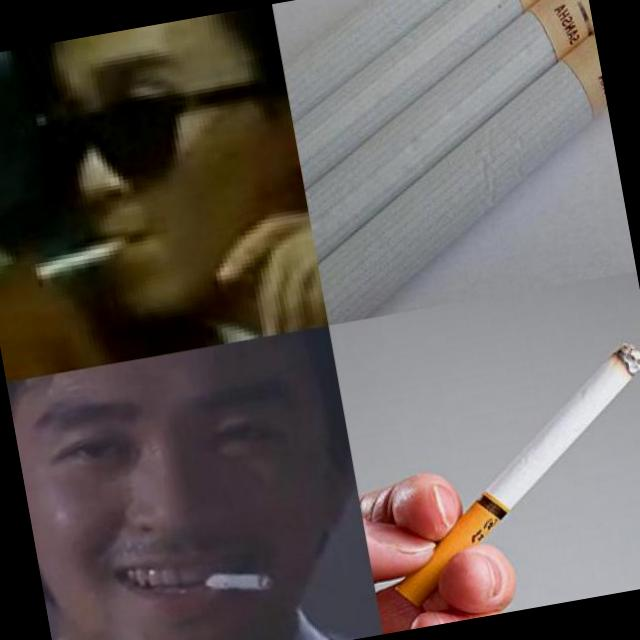smoke: (357, 336, 640, 613), (27, 227, 146, 283), (192, 558, 276, 603)
